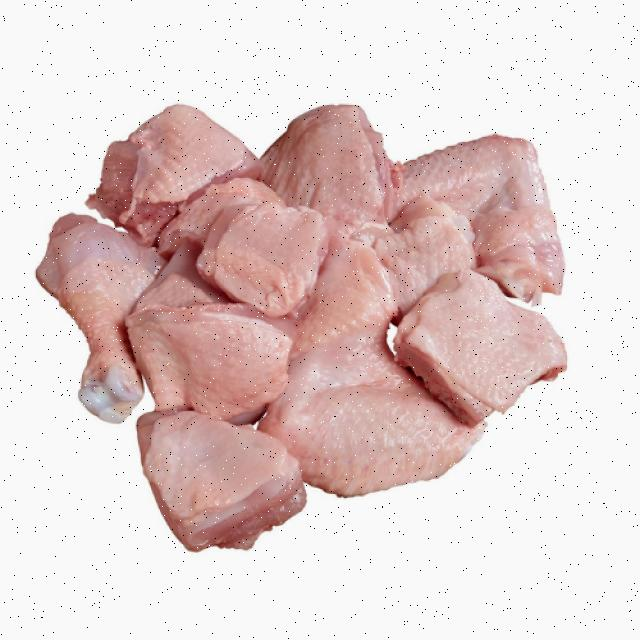Chicken: (46, 64, 587, 596)
